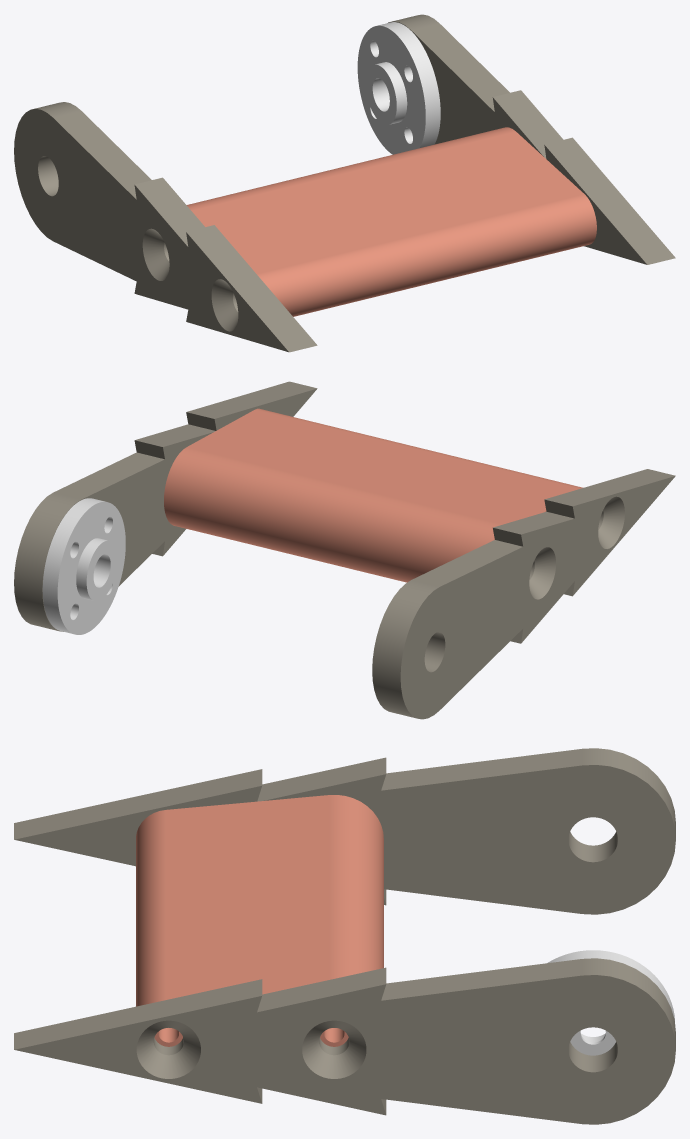
Rendered from Stab Rave Omni Forks.dae.
The picture shows the model from 3 angles, top to bottom: view 1: azimuth 30°, elevation 25°; view 2: azimuth 150°, elevation 25°; view 3: azimuth 270°, elevation 25°; orthographic projection. The views are drawn at different scales.
Parts seen in each view (by area): view 1: Stab Rave Omni Lifter Fork (×2), Stab Rave Omni Lifter Fork Spacer, Flange Servo Horn; view 2: Stab Rave Omni Lifter Fork (×2), Stab Rave Omni Lifter Fork Spacer, Flange Servo Horn; view 3: Stab Rave Omni Lifter Fork (×2), Stab Rave Omni Lifter Fork Spacer, Flange Servo Horn.
Part boxes in pixels (x1=…): Stab Rave Omni Lifter Fork (×2): x1=14, y1=14, x2=675, y2=352; Stab Rave Omni Lifter Fork Spacer: x1=187, y1=127, x2=596, y2=316; Flange Servo Horn: x1=357, y1=22, x2=440, y2=154; Stab Rave Omni Lifter Fork (×2): x1=14, y1=381, x2=675, y2=719; Stab Rave Omni Lifter Fork Spacer: x1=164, y1=408, x2=583, y2=582; Flange Servo Horn: x1=42, y1=498, x2=125, y2=634; Stab Rave Omni Lifter Fork (×2): x1=14, y1=748, x2=675, y2=1124; Stab Rave Omni Lifter Fork Spacer: x1=136, y1=795, x2=383, y2=1046; Flange Servo Horn: x1=547, y1=950, x2=674, y2=1055.
Bounding box in the file's own units: 0.0648 × 0.08 × 0.02.
